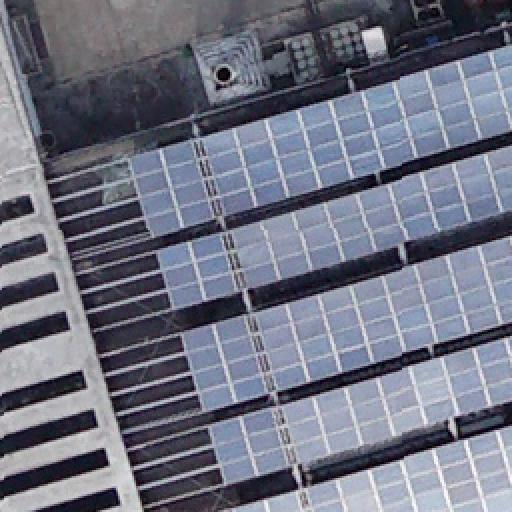solar-panel: (198, 47, 512, 217), (228, 148, 512, 292), (256, 238, 512, 394), (284, 335, 512, 465), (304, 425, 512, 511), (130, 140, 218, 240), (181, 315, 267, 413), (207, 409, 289, 487), (159, 237, 241, 315), (232, 489, 308, 511)
